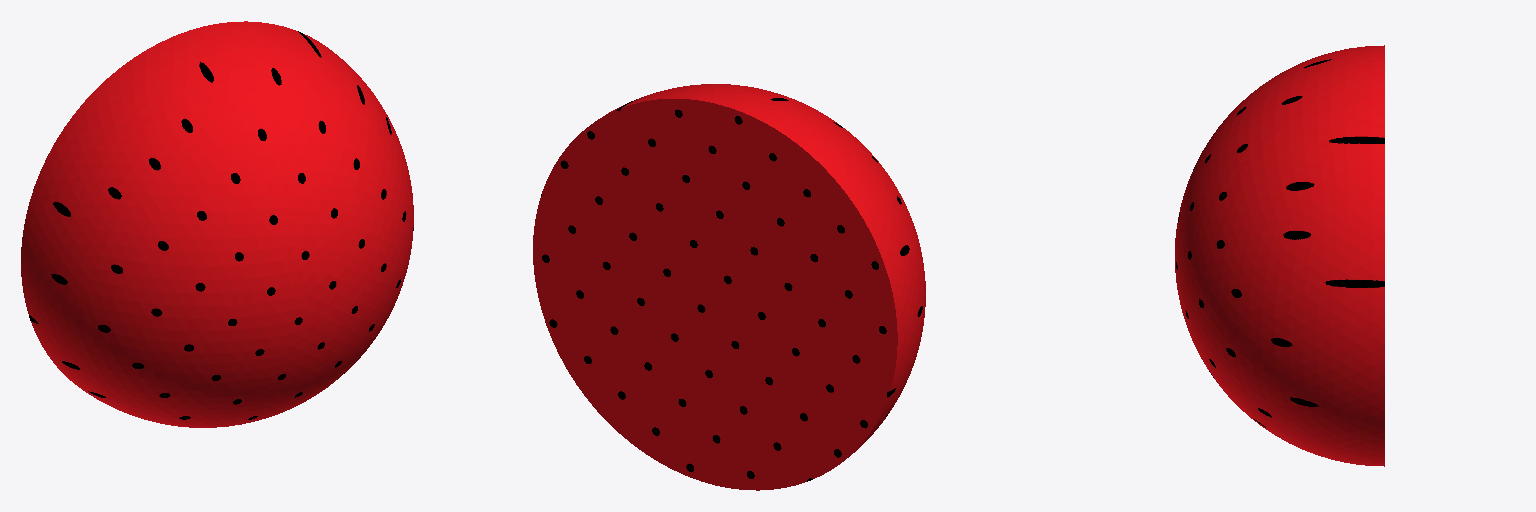
3 renders of one model, left to right at view 1: azimuth 30°, elevation 25°; view 2: azimuth 150°, elevation 25°; view 3: azimuth 270°, elevation 25°, orthographic.
Visible parts, largest first — view 1: Object.1; view 2: Object.1; view 3: Object.1.
Boxes of the visible parts, x1=… form: Object.1: x1=21, y1=21, x2=413, y2=427; Object.1: x1=533, y1=84, x2=925, y2=490; Object.1: x1=1175, y1=45, x2=1384, y2=466.
Bounding box in the file's own units: 40 × 40 × 20.
1 materials, 1 textured.